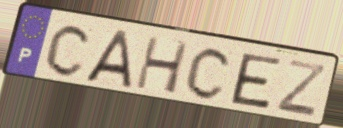A: (82, 28, 133, 90)
C: (43, 22, 95, 78), (183, 45, 235, 101)
E: (229, 51, 284, 112)
H: (133, 34, 192, 96)
Z: (274, 57, 329, 120)
